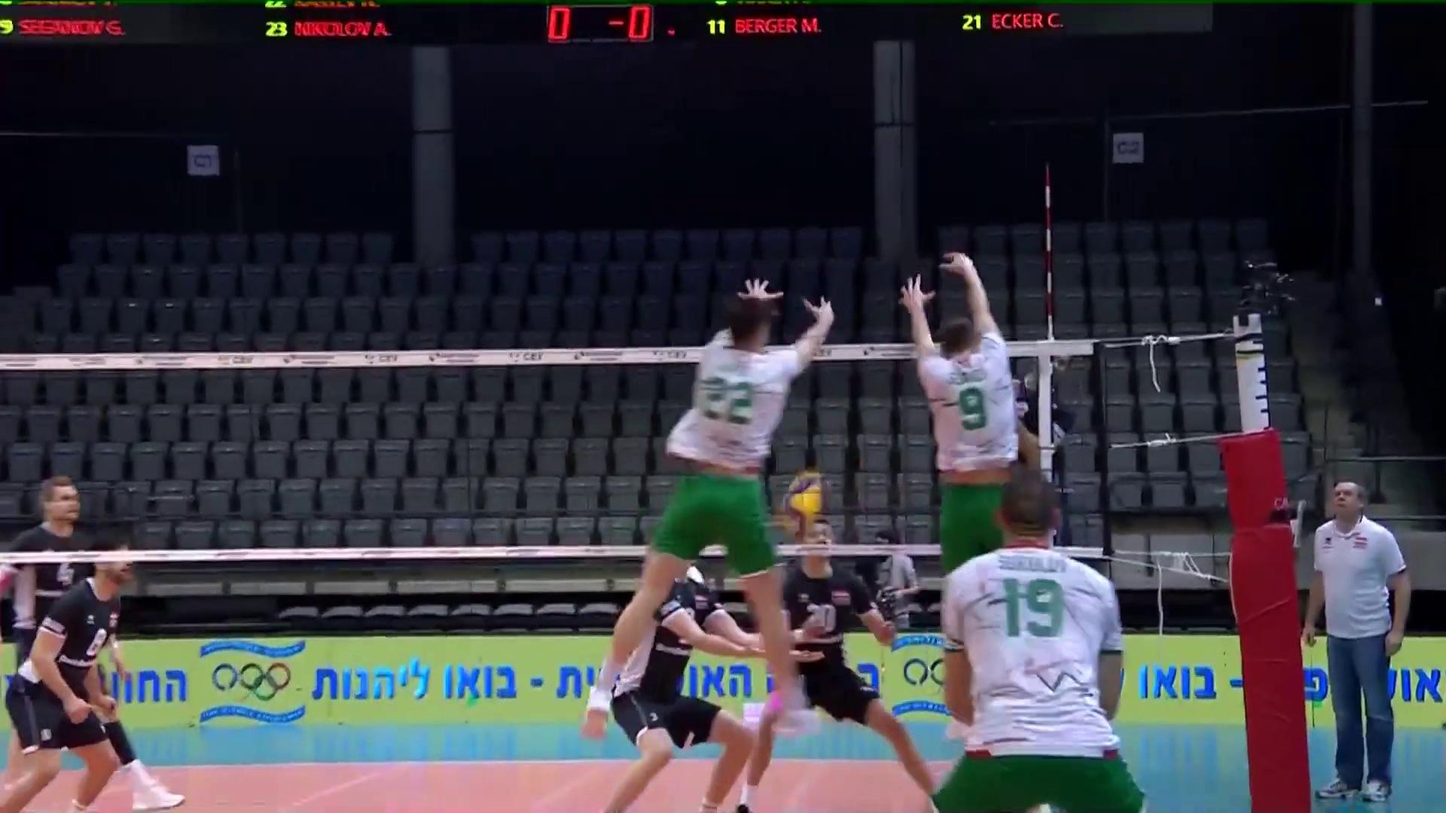ball: (781, 471, 836, 527)
